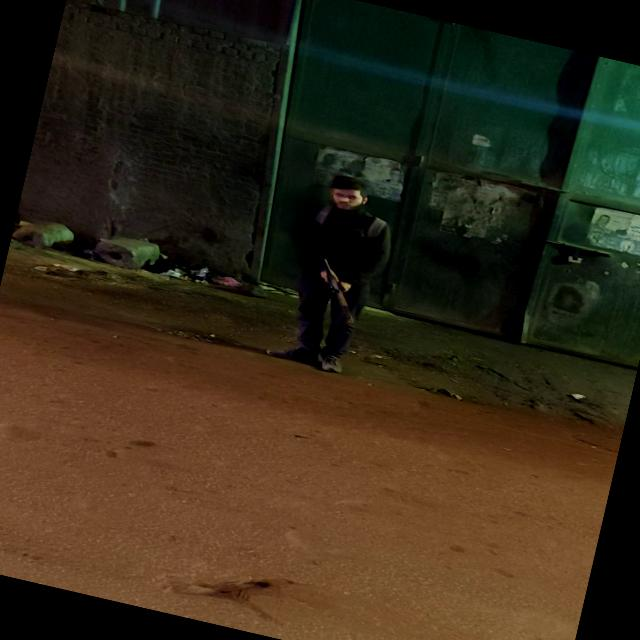long weapon: (288, 242, 387, 334)
